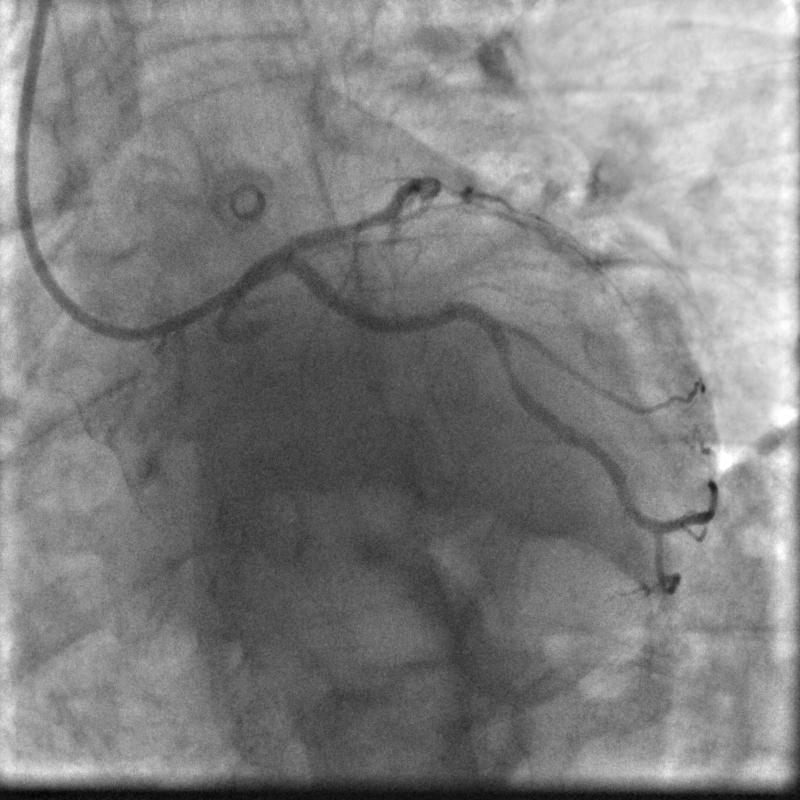Stenosis: (499, 356, 520, 384)
